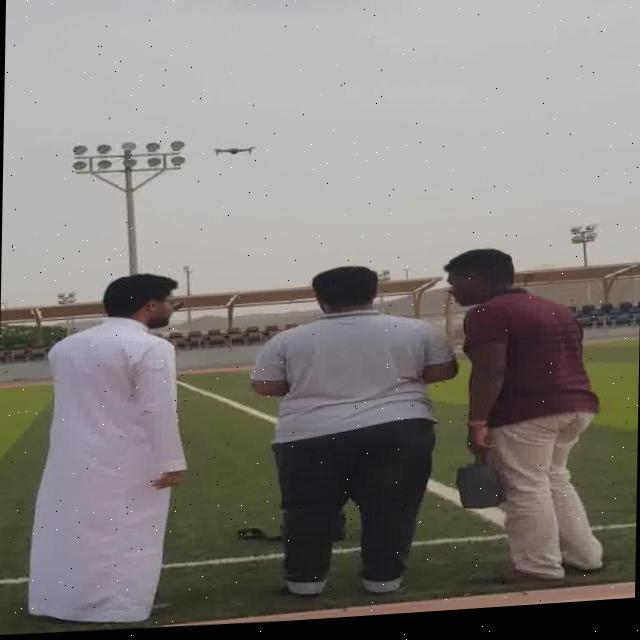drone: (198, 137, 276, 161)
